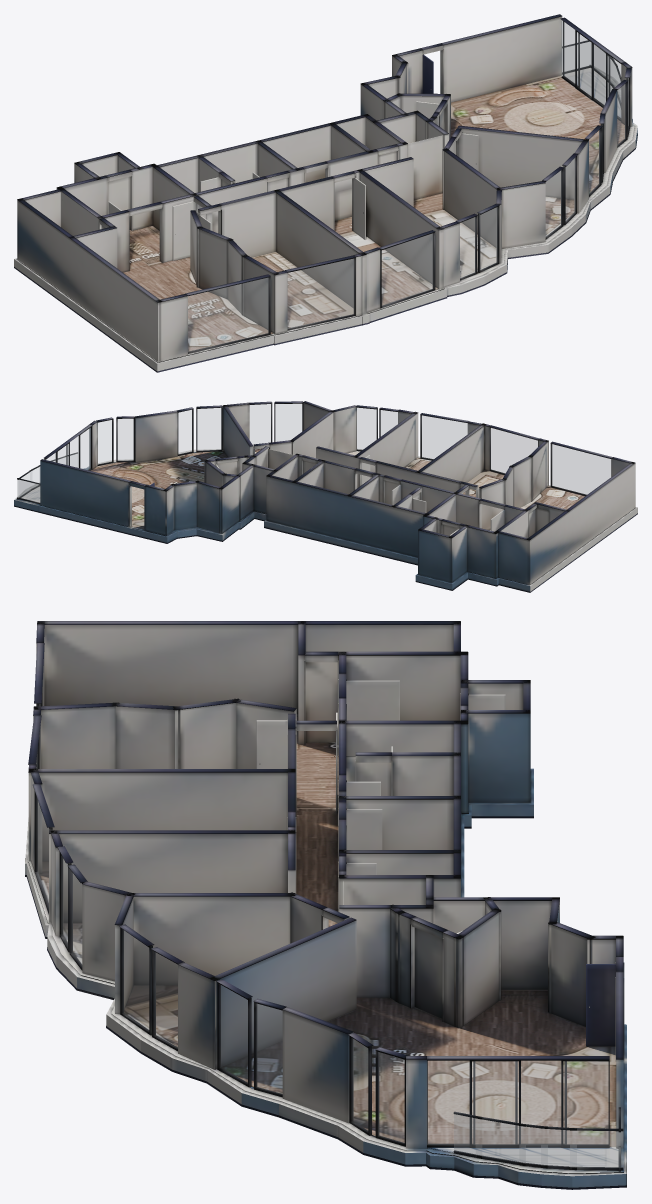
The picture shows the model from 3 angles, top to bottom: view 1: azimuth 30°, elevation 25°; view 2: azimuth 150°, elevation 25°; view 3: azimuth 270°, elevation 25°; orthographic projection. The views are drawn at different scales.
Parts seen in each view (by area): view 1: plan, glass0_m, glass1_m, glass2_m, glass11_m, glass4_m, glass3_m, glass5_m, glass7_m, glass6_m, railg0_m; view 2: plan, glass0_m, glass1_m, glass2_m, glass7_m, glass5_m, glass11_m, glass6_m, glass4_m, glass9_m, glass8_m, glass10_m (+2 smaller); view 3: plan, glass11_m, glass7_m, glass8_m, glass10_m, glass5_m, railg1_m, glass6_m, railg4_m, glass9_m, railg2_m, railg3_m (+3 smaller).
Boxes of the visible parts, <box> form: plan: <box>14,14,637,372</box>; glass0_m: <box>188,278,268,351</box>; glass1_m: <box>288,259,354,328</box>; glass2_m: <box>382,233,433,305</box>; glass11_m: <box>562,21,620,117</box>; glass4_m: <box>480,207,497,269</box>; glass3_m: <box>460,217,475,278</box>; glass5_m: <box>546,170,561,236</box>; glass7_m: <box>589,130,599,193</box>; glass6_m: <box>566,157,575,221</box>; railg0_m: <box>565,42,590,71</box>; plan: <box>14,401,637,592</box>; glass0_m: <box>552,444,610,494</box>; glass1_m: <box>490,428,537,473</box>; glass2_m: <box>422,415,467,458</box>; glass7_m: <box>197,408,221,450</box>; glass5_m: <box>275,404,301,441</box>; glass11_m: <box>46,428,90,469</box>; glass6_m: <box>250,404,270,445</box>; glass4_m: <box>357,408,376,449</box>; glass9_m: <box>118,419,133,460</box>; glass8_m: <box>178,410,191,454</box>; glass10_m: <box>98,420,111,464</box>; plan: <box>25,621,626,1189</box>; glass11_m: <box>427,1061,608,1144</box>; glass7_m: <box>220,985,247,1083</box>; glass8_m: <box>256,1004,282,1094</box>; glass10_m: <box>378,1052,404,1143</box>; glass5_m: <box>123,930,148,1030</box>; railg1_m: <box>570,1131,622,1167</box>; glass6_m: <box>155,952,177,1047</box>; railg4_m: <box>476,1119,525,1163</box>; glass9_m: <box>352,1038,367,1131</box>; railg2_m: <box>541,1129,576,1167</box>; railg3_m: <box>519,1126,547,1165</box>.
Bounding box in the file's own units: 25.34 × 2.62 × 13.82.
Materials: 2 (1 with a texture image).
